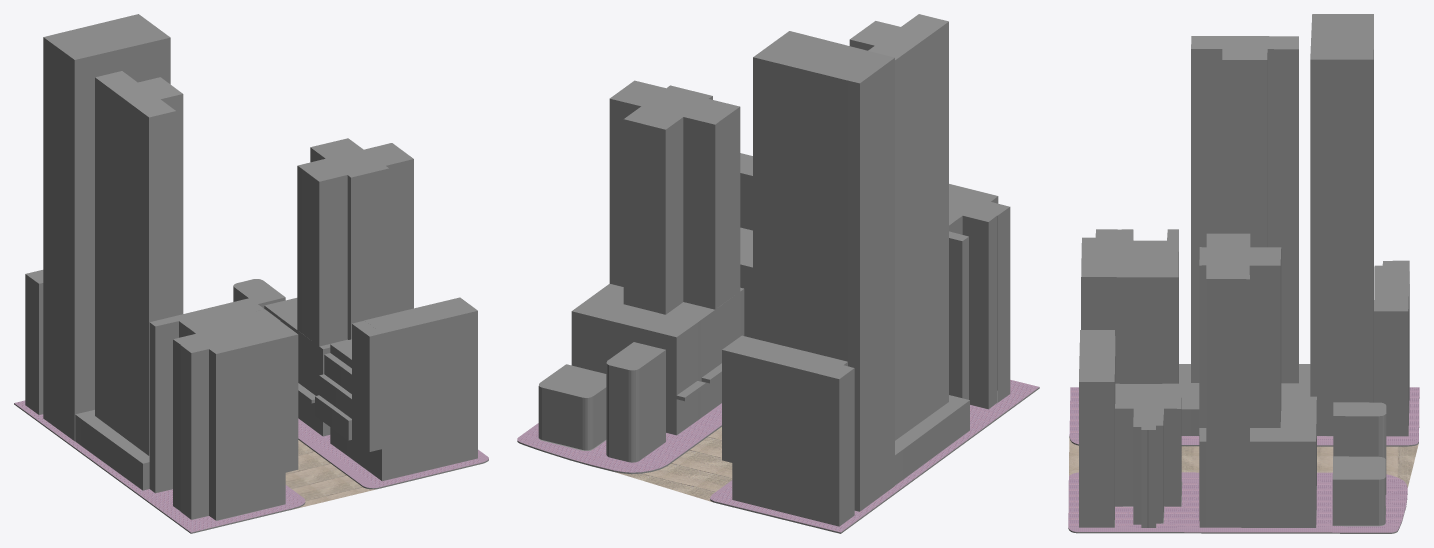
3 renders of one model, left to right at view 1: azimuth 30°, elevation 25°; view 2: azimuth 150°, elevation 25°; view 3: azimuth 270°, elevation 25°, orthographic. The views are drawn at different scales.
Visible parts, largest first — view 1: Mesh1 Group1 Model, Mesh10 skpAE5E1 Model, Mesh3 skpAE5E1 Model, Mesh13 skpAE5E1 Model, Mesh2 skpAE5E1 Model, Mesh8 skpAE5E1 Model, Mesh11 skpAE5E1 Model; view 2: Mesh3 skpAE5E1 Model, Mesh13 skpAE5E1 Model, Mesh1 Group1 Model, Mesh8 skpAE5E1 Model, Mesh10 skpAE5E1 Model, Mesh11 skpAE5E1 Model, Mesh12 skpAE5E1 Model, Mesh2 skpAE5E1 Model; view 3: Mesh1 Group1 Model, Mesh13 skpAE5E1 Model, Mesh3 skpAE5E1 Model, Mesh2 skpAE5E1 Model, Mesh10 skpAE5E1 Model, Mesh8 skpAE5E1 Model, Mesh12 skpAE5E1 Model, Mesh11 skpAE5E1 Model.
Part boxes in pixels (x1,y1,x2,y2): Mesh1 Group1 Model: [14, 71, 488, 533]; Mesh10 skpAE5E1 Model: [75, 298, 298, 520]; Mesh3 skpAE5E1 Model: [43, 14, 170, 441]; Mesh13 skpAE5E1 Model: [264, 138, 413, 436]; Mesh2 skpAE5E1 Model: [315, 297, 477, 481]; Mesh8 skpAE5E1 Model: [25, 270, 43, 414]; Mesh11 skpAE5E1 Model: [233, 279, 285, 308]; Mesh3 skpAE5E1 Model: [753, 31, 894, 511]; Mesh13 skpAE5E1 Model: [571, 80, 744, 435]; Mesh1 Group1 Model: [517, 14, 1039, 533]; Mesh8 skpAE5E1 Model: [722, 335, 854, 526]; Mesh10 skpAE5E1 Model: [895, 184, 1010, 485]; Mesh11 skpAE5E1 Model: [606, 342, 665, 462]; Mesh12 skpAE5E1 Model: [538, 364, 606, 450]; Mesh2 skpAE5E1 Model: [740, 153, 752, 338]; Mesh1 Group1 Model: [1068, 36, 1419, 533]; Mesh13 skpAE5E1 Model: [1199, 233, 1316, 527]; Mesh3 skpAE5E1 Model: [1310, 14, 1373, 435]; Mesh2 skpAE5E1 Model: [1079, 330, 1181, 527]; Mesh10 skpAE5E1 Model: [1081, 229, 1310, 435]; Mesh8 skpAE5E1 Model: [1374, 260, 1409, 436]; Mesh12 skpAE5E1 Model: [1332, 456, 1385, 525]; Mesh11 skpAE5E1 Model: [1333, 402, 1386, 494].
Bounding box in the file's own units: 48.16 × 58.5 × 49.16.
4 materials, 2 textured.
